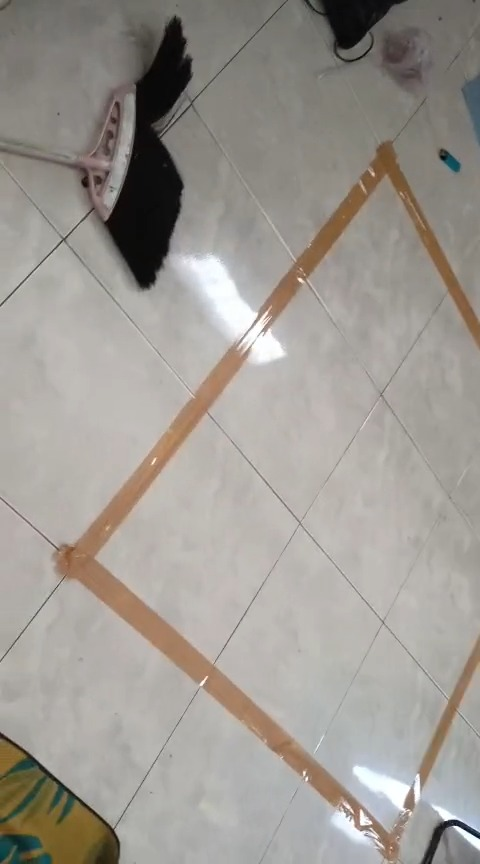floor marking: (56, 142, 479, 860)
